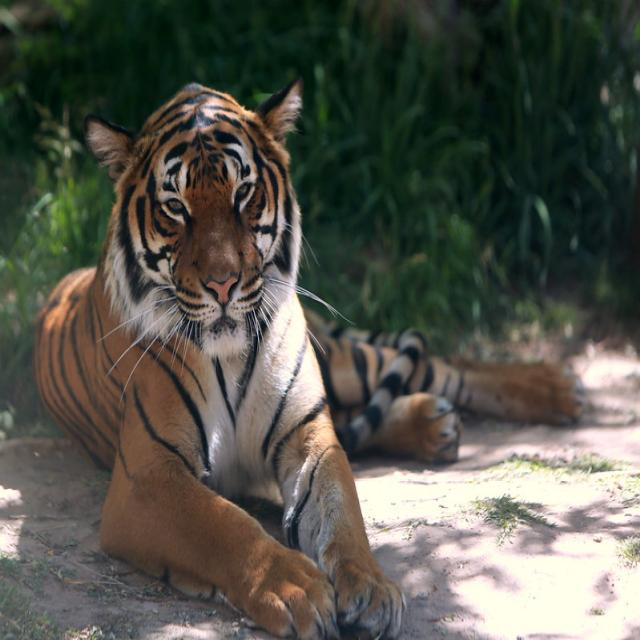Tiger: (31, 64, 589, 636)
